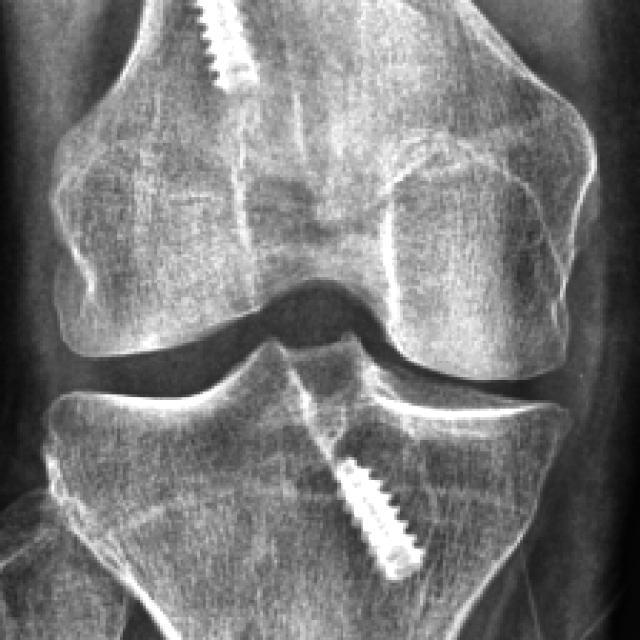femur: (48, 0, 604, 380)
tibia: (31, 326, 571, 640)
